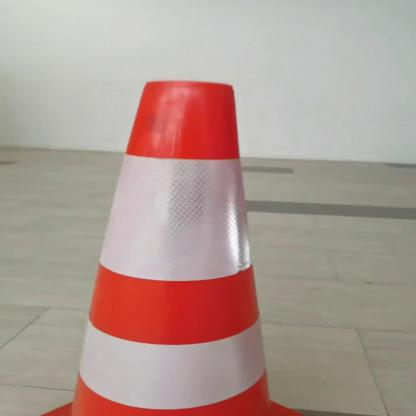cone: (38, 72, 386, 415)
